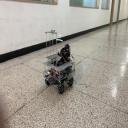cart: (42, 58, 75, 94)
